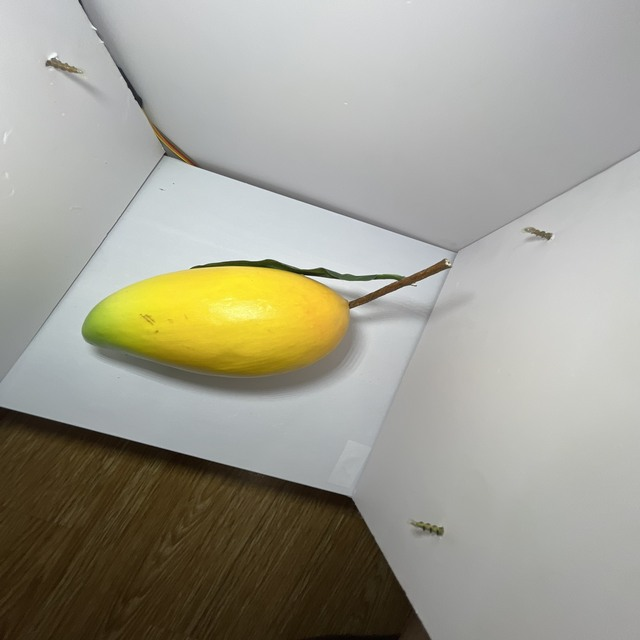Xoai: (83, 265, 359, 382)
